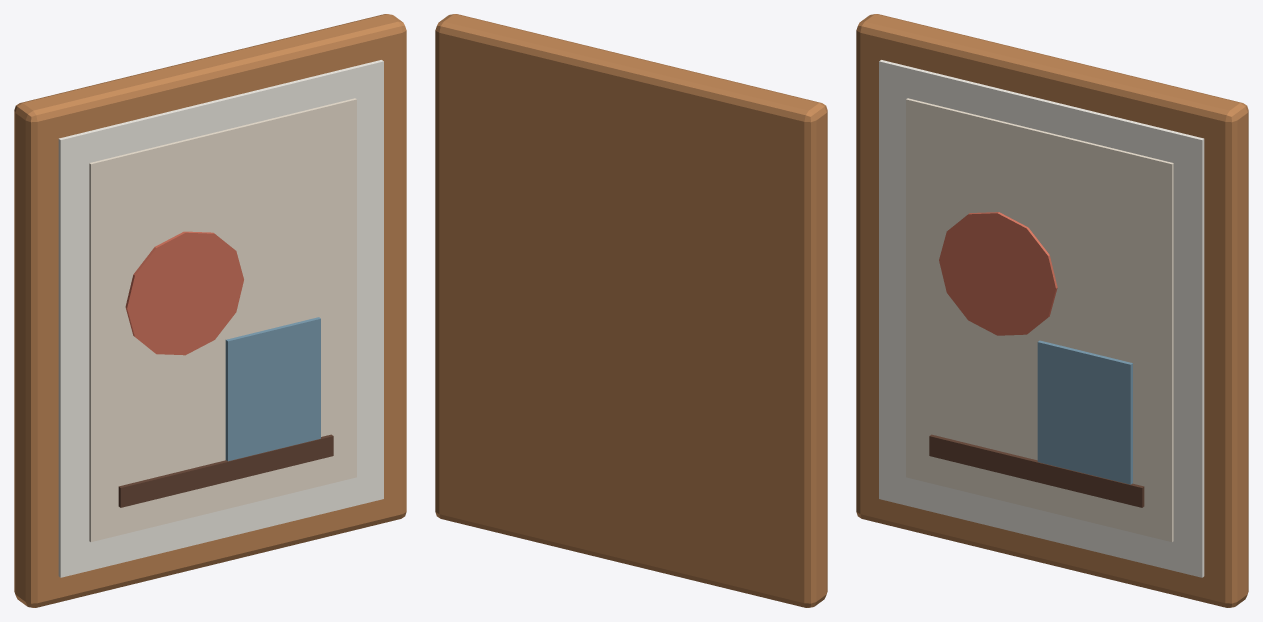
File: picture_abstract.glb
3 views of the same model, side by side, from view 1: azimuth 30°, elevation 25°; view 2: azimuth 150°, elevation 25°; view 3: azimuth 330°, elevation 25° (orthographic).
Parts seen in each view (by area): view 1: picture_abstract; view 2: picture_abstract; view 3: picture_abstract.
Boxes of the visible parts, <box> form: picture_abstract: <box>14,14,406,607</box>; picture_abstract: <box>435,14,827,607</box>; picture_abstract: <box>856,14,1248,607</box>.
Size of the model in its own units: 0.4 by 0.5 by 0.048.
